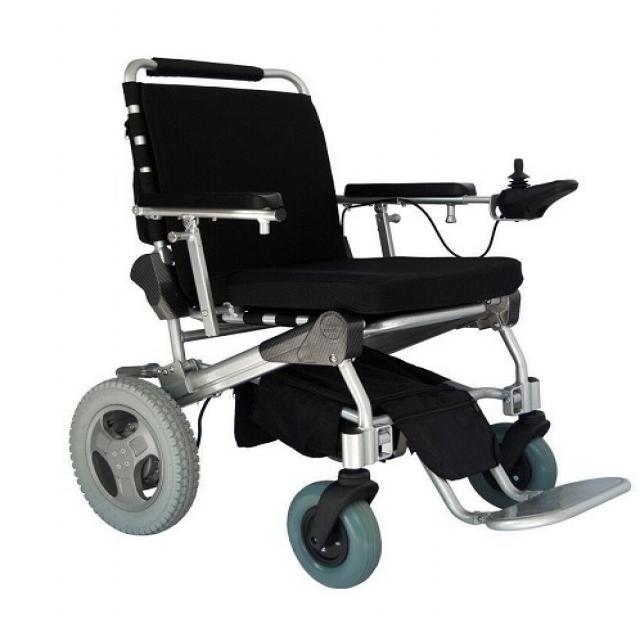wheelchair: (71, 48, 640, 602)
